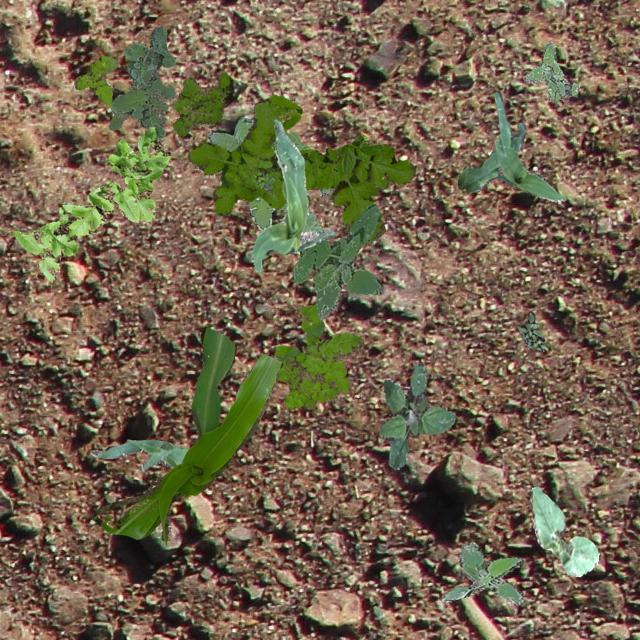crop: (91, 326, 282, 544), (250, 117, 334, 270), (456, 90, 564, 200), (528, 486, 598, 576), (90, 438, 186, 471)
weed: (186, 94, 414, 244), (12, 126, 170, 280), (207, 115, 329, 232), (292, 203, 382, 320), (274, 304, 362, 408), (378, 362, 454, 468), (108, 25, 174, 138), (440, 540, 522, 604), (172, 72, 228, 136), (522, 40, 578, 100), (74, 54, 116, 108), (516, 310, 546, 350)
